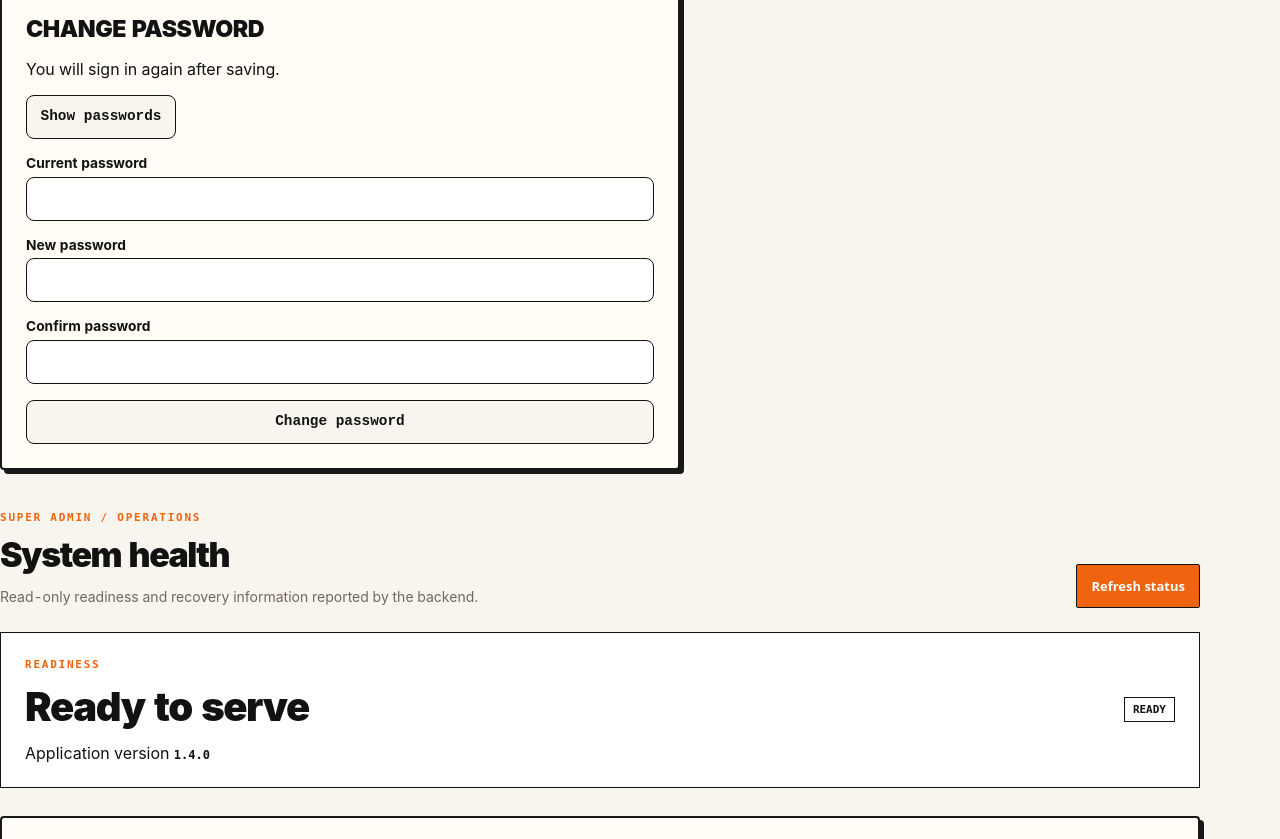
Scenario: Super Admin system health › labels the retained health response as stale after a refresh failure
This screenshot has width=1280, height=839.
Expected: the heading "Ready to serve" is shown, [25,682,309,731]
Click the button "Refresh status". click: (1138, 586)
box: [1076,564,1200,608]
(page scrolled)
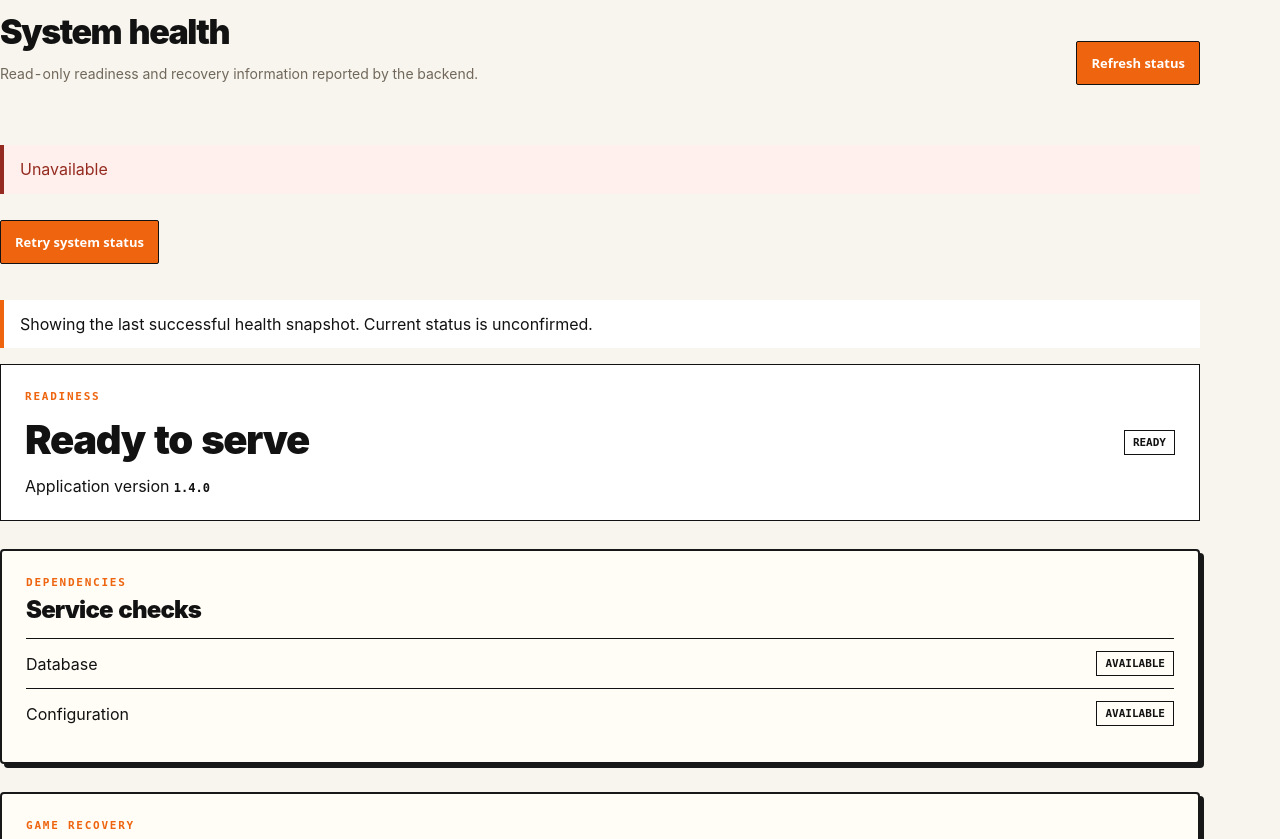
Expected: the heading "Ready to serve" is shown, [25,415,309,464]
Expected: the message "Unavailable" is shown, [0,145,1200,194]
Expected: the message "Showing the last successful health snapshot. Current status is unconfirmed." is shown, [0,300,1200,348]
